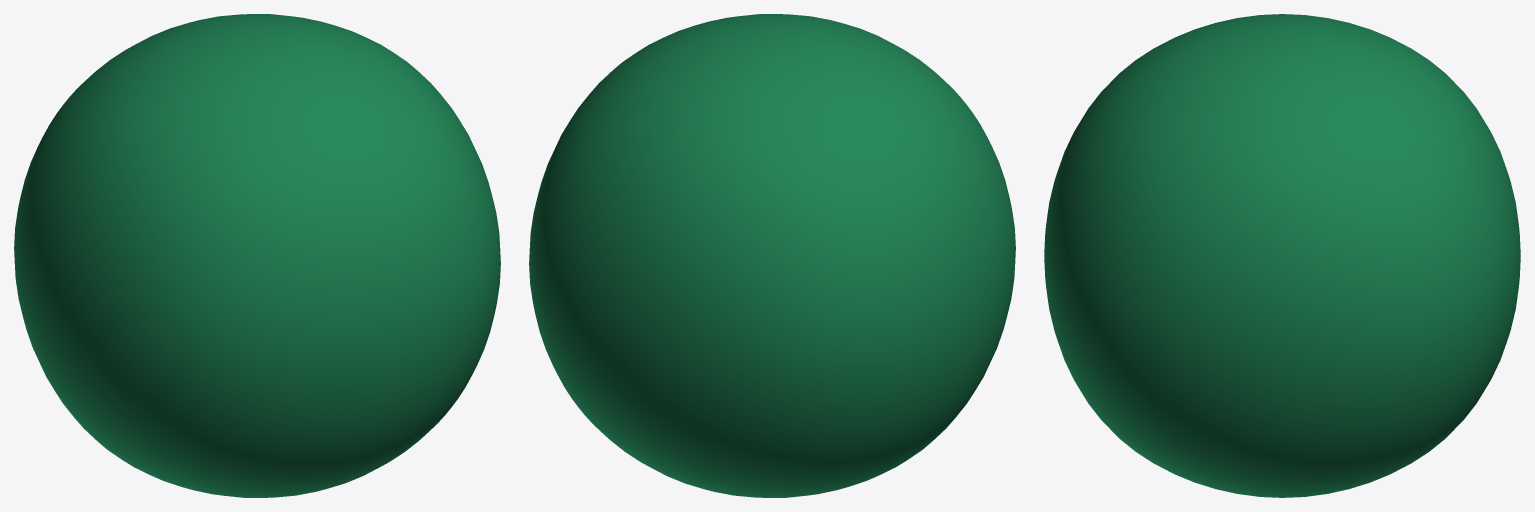
File: Planet_Prototype.fbx
The picture shows the model from 3 angles, left to right: view 1: azimuth 30°, elevation 25°; view 2: azimuth 150°, elevation 25°; view 3: azimuth 270°, elevation 25°; orthographic projection.
Visible parts, largest first — view 1: Planet; view 2: Planet; view 3: Planet.
Part boxes in pixels (<box>): Planet: <box>14,14,500,497</box>; Planet: <box>529,14,1015,497</box>; Planet: <box>1044,14,1520,497</box>.
Bounding box in the file's own units: 840 × 840 × 840.
